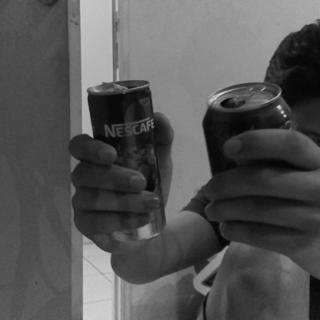alumunium_can: (86, 78, 169, 239), (205, 82, 298, 178)
